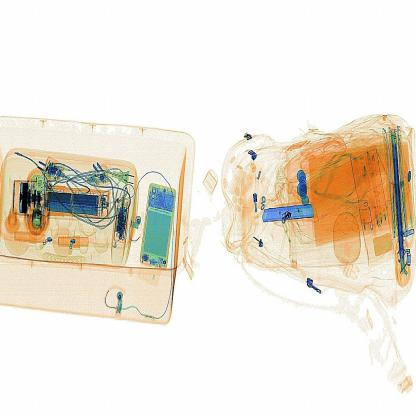pliers: (257, 194, 321, 232)
